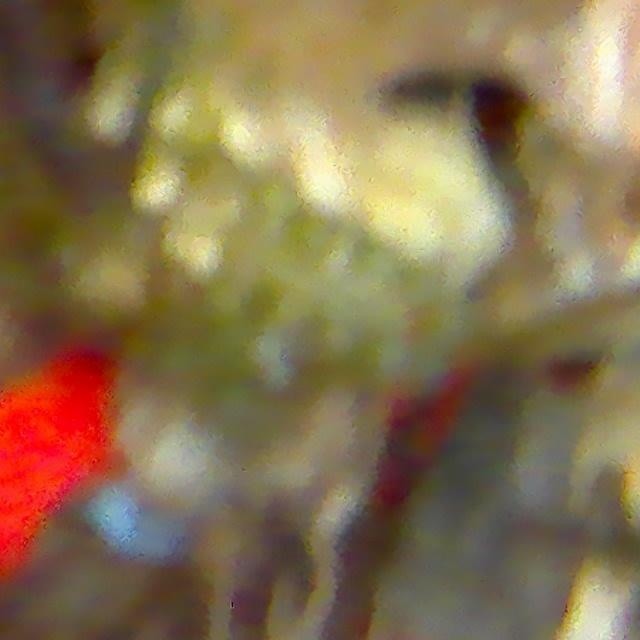SeaGrape: (131, 413, 234, 518)
